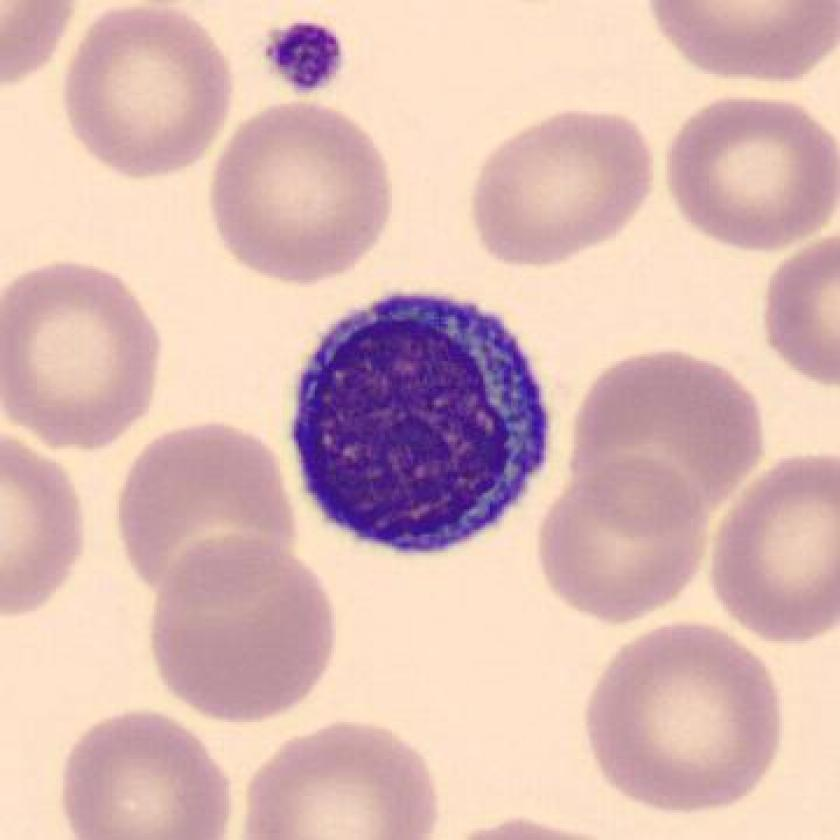lymphocyte: (277, 277, 564, 571)
